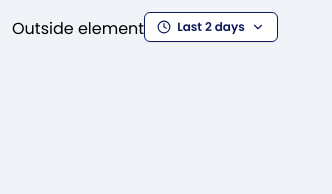
Test: TimeRangeDropdown › renders default "Last 2 days" and shows 4 options on click
Click the button with aria-label "Time filter: Last 2 days": click(211, 27) [144,12,278,42]
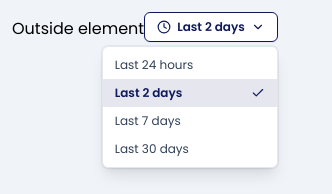
Expected: the list is shown, [102,46,278,168]
Expected: the number of options is 4, [115,56,193,73]; [103,79,277,107]; [115,112,181,129]; [115,140,189,157]
Expected: the options read "Last 24 hours", "Last 2 days", "Last 7 days", "Last 30 days", in this order, [115,56,193,73]; [103,79,277,107]; [115,112,181,129]; [115,140,189,157]
